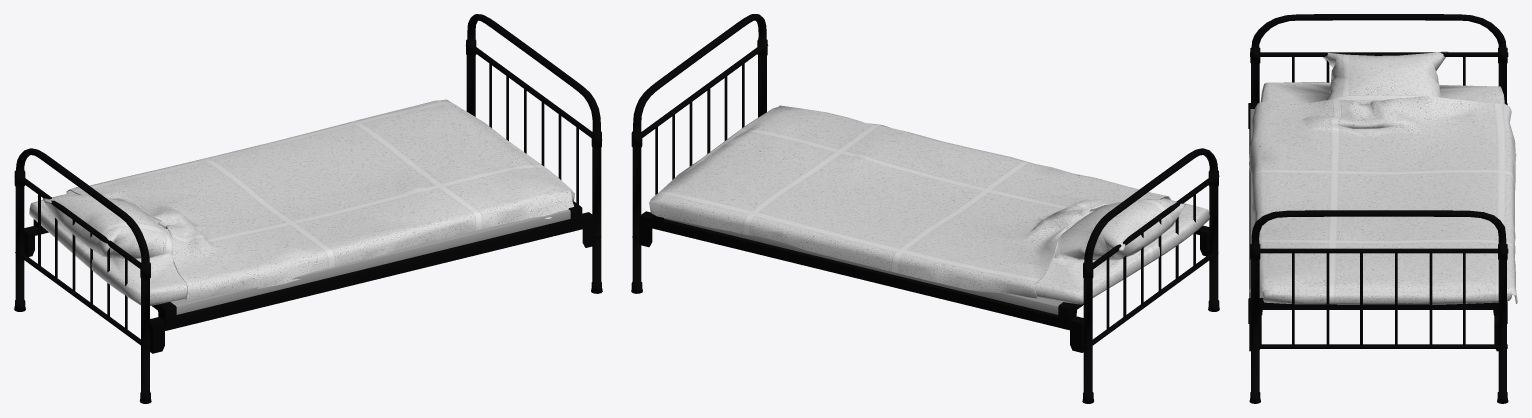
File: bed.glb
The picture shows the model from 3 angles, left to right: view 1: azimuth 30°, elevation 25°; view 2: azimuth 150°, elevation 25°; view 3: azimuth 270°, elevation 25°; orthographic projection.
Visible parts, largest first — view 1: #O-B#, #O-M#, SM_Bed_01_S; view 2: #O-B#, #O-M#, SM_Bed_01_S; view 3: #O-B#, #O-M#, SM_Bed_01_S.
Part boxes in pixels (x1=…): #O-B#: x1=29, y1=99, x2=574, y2=305; #O-M#: x1=14, y1=14, x2=602, y2=403; SM_Bed_01_S: x1=171, y1=209, x2=570, y2=314; #O-B#: x1=649, y1=105, x2=1209, y2=304; #O-M#: x1=631, y1=14, x2=1219, y2=403; SM_Bed_01_S: x1=664, y1=218, x2=1062, y2=314; #O-B#: x1=1249, y1=51, x2=1517, y2=304; #O-M#: x1=1248, y1=14, x2=1508, y2=403; SM_Bed_01_S: x1=1250, y1=109, x2=1262, y2=297.
Size of the model in its own units: 3.92 by 1.57 by 2.01.
Materials: 3 (2 with a texture image).
